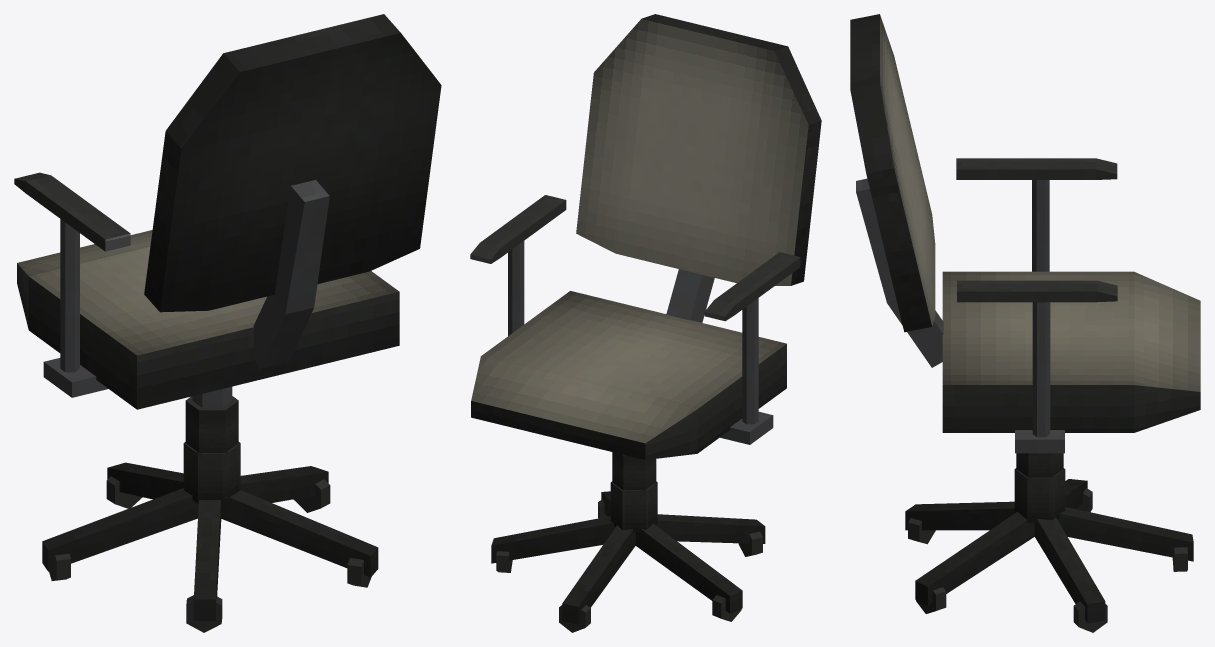
Rendered from Chair.fbx.
3 renders of one model, left to right at view 1: azimuth 30°, elevation 25°; view 2: azimuth 150°, elevation 25°; view 3: azimuth 270°, elevation 25°, orthographic. The views are drawn at different scales.
Visible parts, largest first — view 1: ChairTop, Chair; view 2: ChairTop, Chair; view 3: ChairTop, Chair.
Part boxes in pixels (x1,y1,x2,y2): ChairTop: [14, 14, 441, 409]; Chair: [42, 386, 378, 632]; ChairTop: [470, 14, 821, 459]; Chair: [491, 452, 765, 632]; ChairTop: [850, 14, 1200, 453]; Chair: [905, 453, 1193, 632].
Bounding box in the file's own units: 0.6207 × 1.14 × 0.6893.
